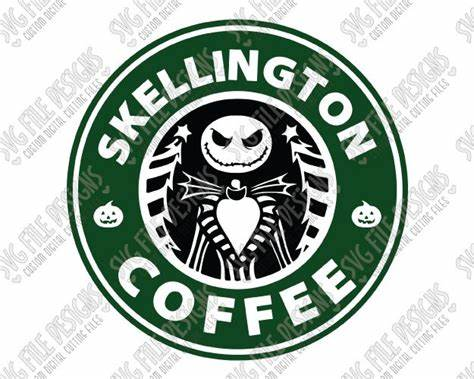starbucks Fake: (57, 13, 412, 358)
